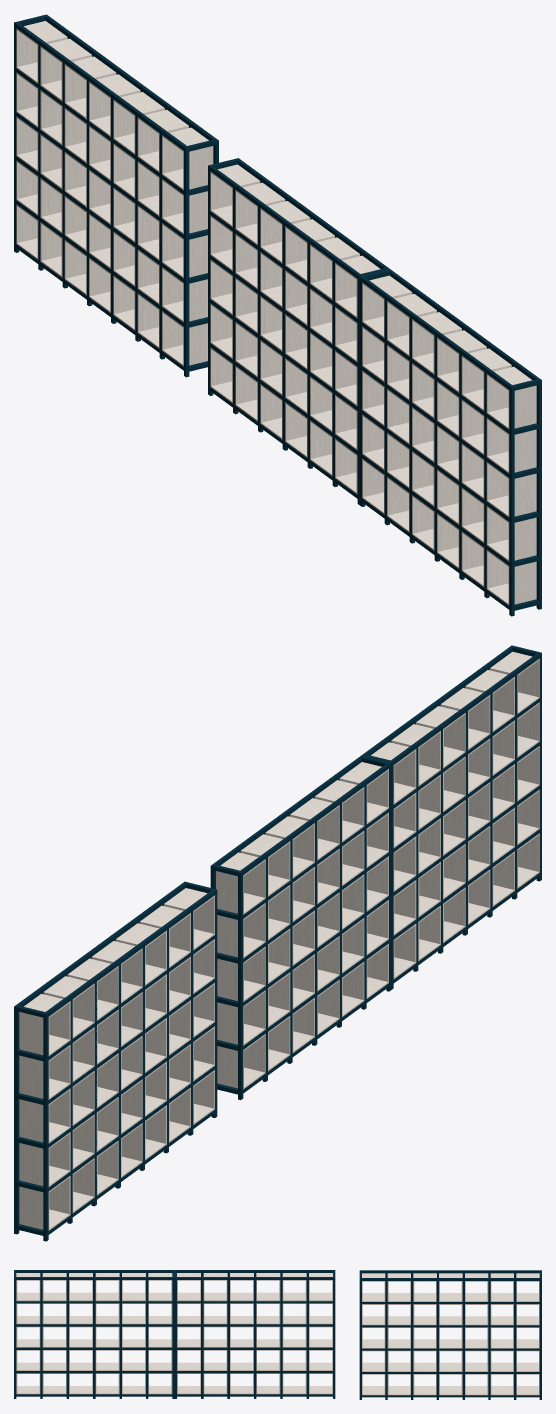
The model's file is CK-shujia0002-CJBZ.FBX.
3 views of the same model, one above another, from view 1: azimuth 30°, elevation 25°; view 2: azimuth 150°, elevation 25°; view 3: azimuth 270°, elevation 25° (orthographic). The views are drawn at different scales.
Parts seen in each view (by area): view 1: CK-shujia0002-CJBZ; view 2: CK-shujia0002-CJBZ; view 3: CK-shujia0002-CJBZ.
Part boxes in pixels (<box>): CK-shujia0002-CJBZ: <box>14,14,541,616</box>; CK-shujia0002-CJBZ: <box>14,645,541,1241</box>; CK-shujia0002-CJBZ: <box>14,1270,541,1399</box>.
Size of the model in its own units: 0.3626 by 2.35 by 9.29.
2 materials, 1 textured.
